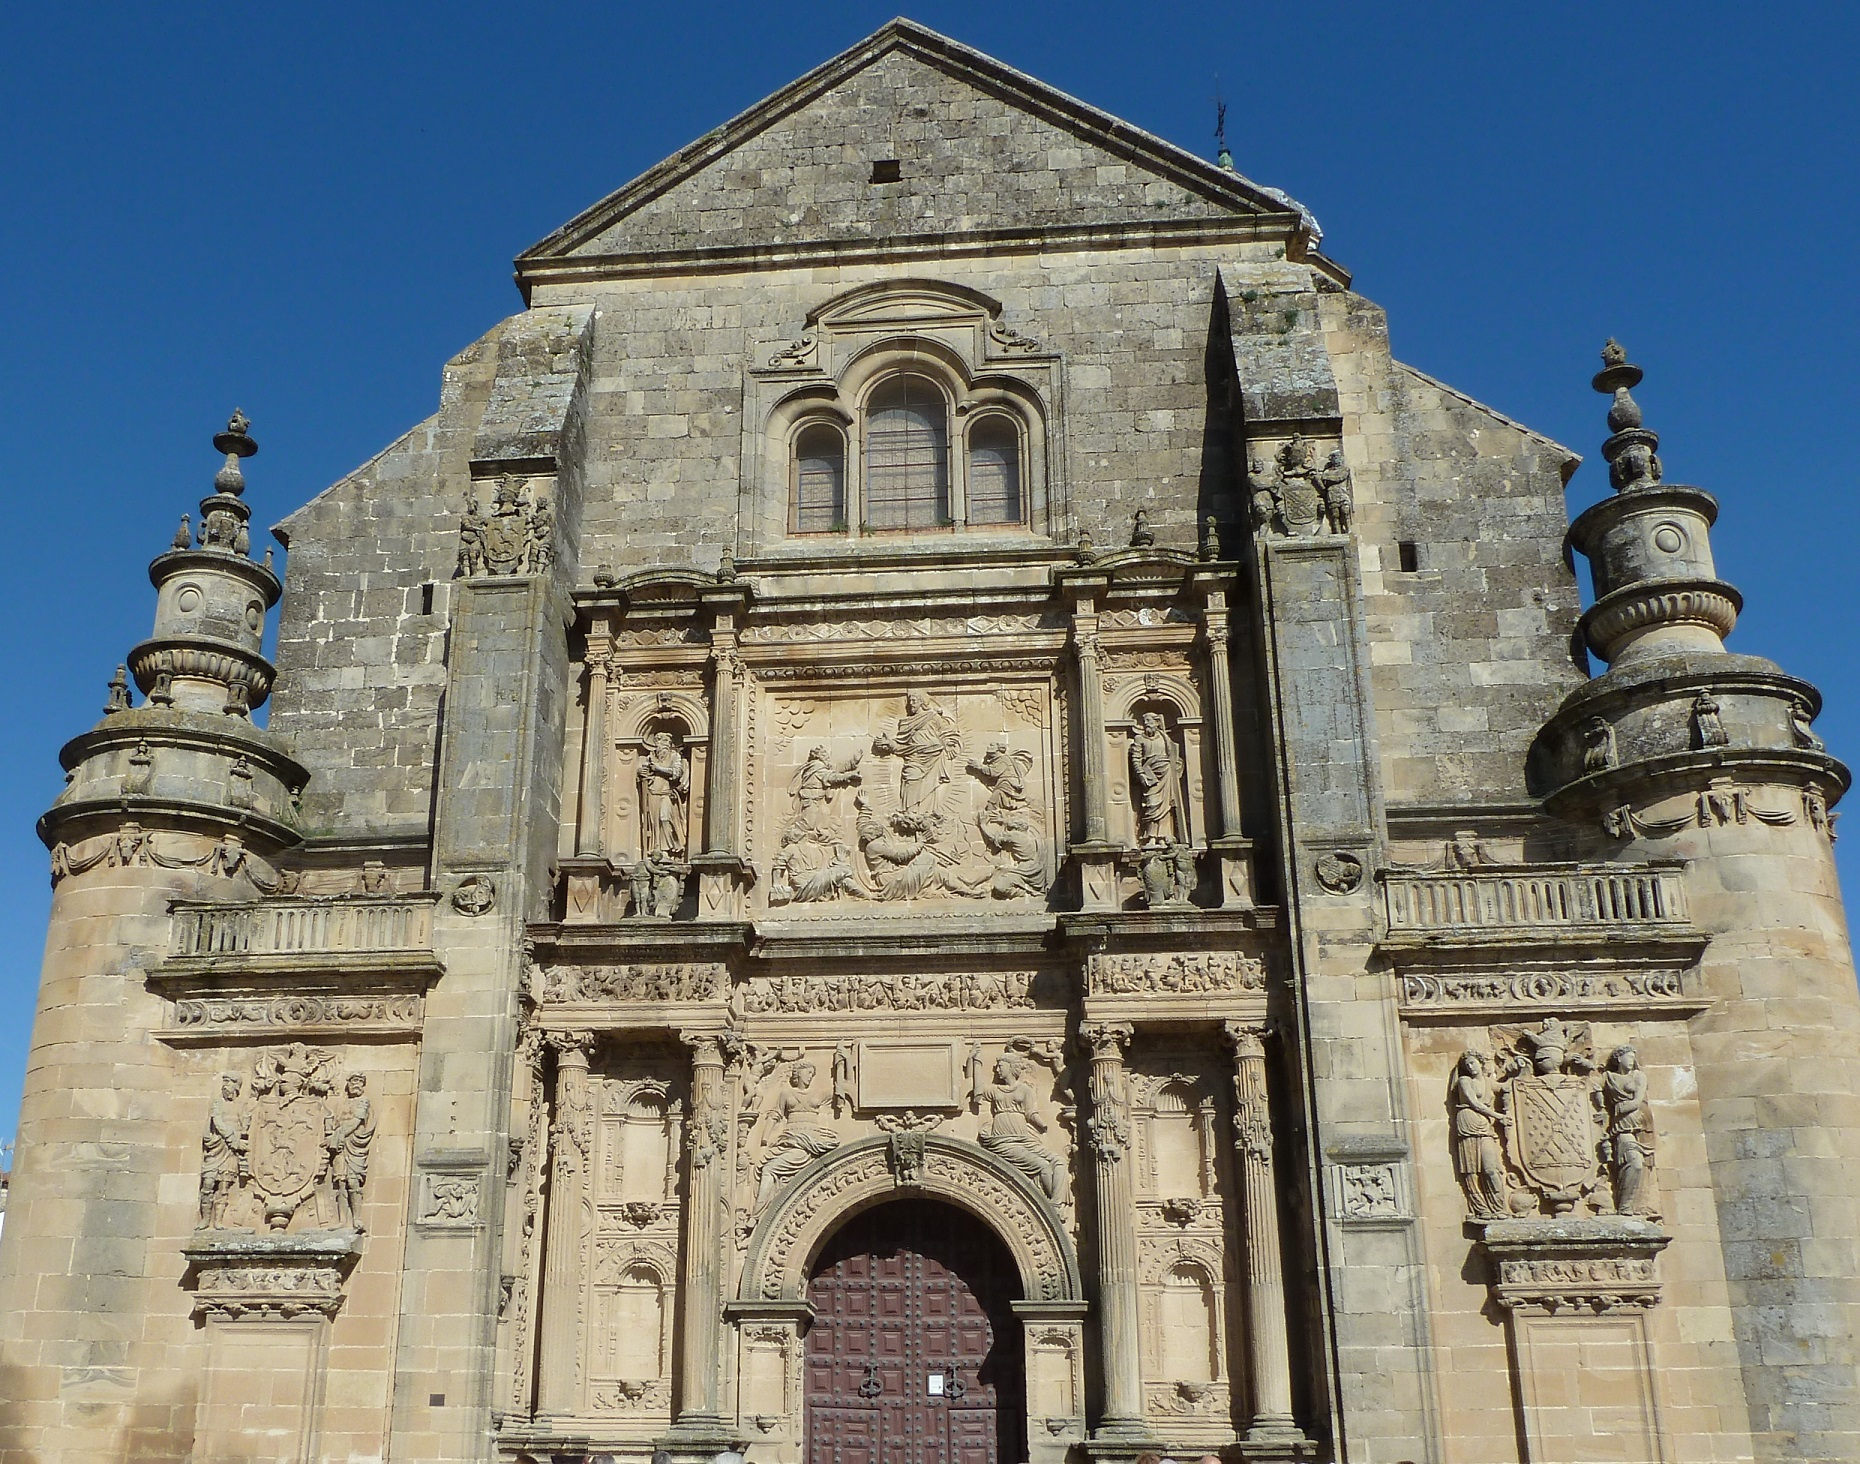arco-medio-punto: (784, 1173, 1049, 1346)
fronton: (513, 17, 1298, 281)
fronton-curvo: (806, 272, 1001, 331)
